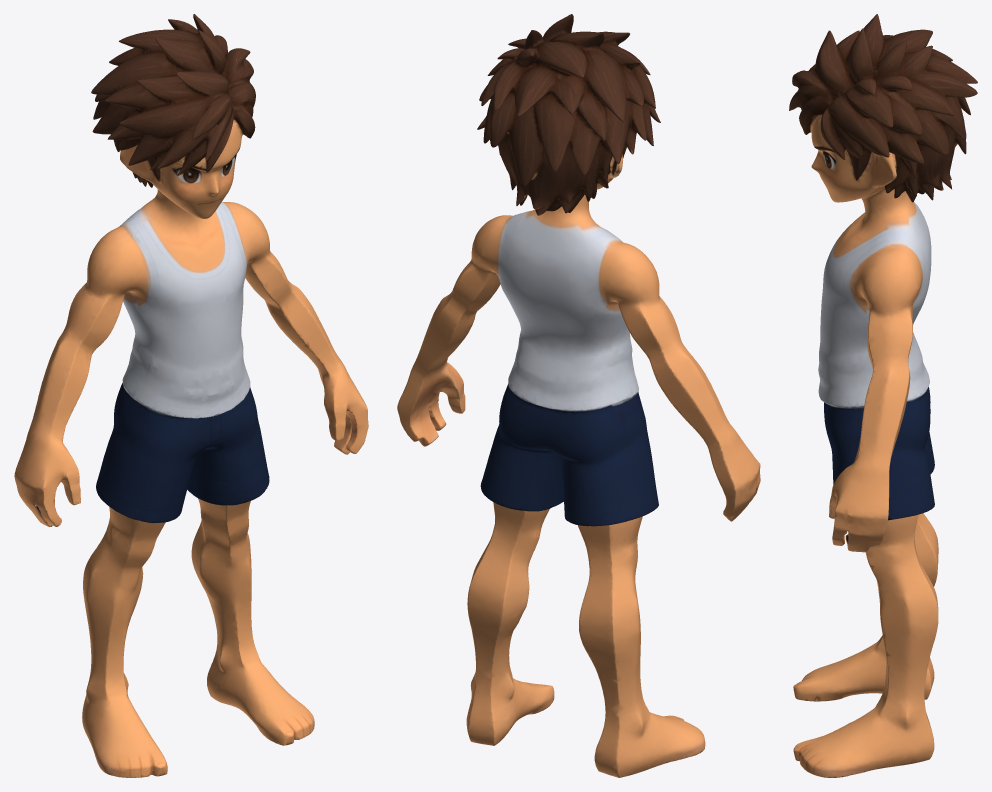
The model's file is meshy-textured.glb.
3 views of the same model, side by side, from view 1: azimuth 30°, elevation 25°; view 2: azimuth 150°, elevation 25°; view 3: azimuth 270°, elevation 25° (orthographic). The views are drawn at different scales.
Bounding box in the file's own units: 0.951 × 1.9 × 0.4624.
1 material, 1 textured.
